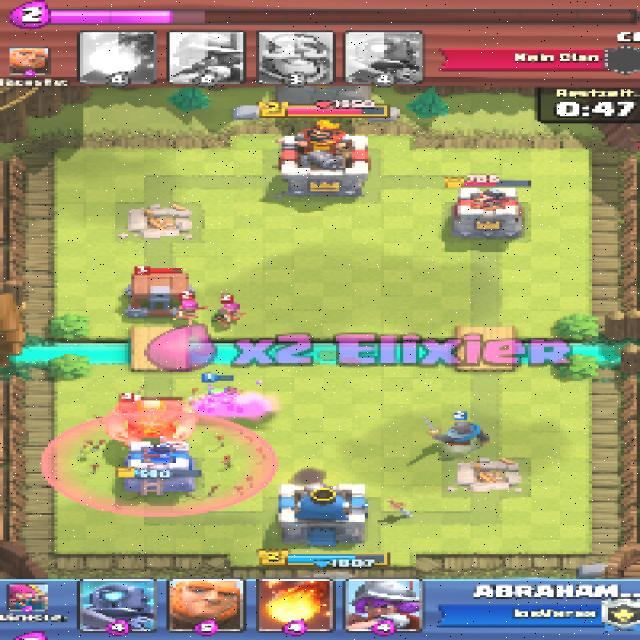Enemy-Archer: (172, 298, 203, 323), (211, 300, 240, 323)
Enemy-Arrow: (40, 409, 277, 517)
Enemy-Giant: (101, 398, 192, 440)
Player-GoblinCage: (124, 272, 194, 319)
Player-Knight: (425, 421, 492, 448)
Player-SpearGoblin: (203, 386, 237, 410)
